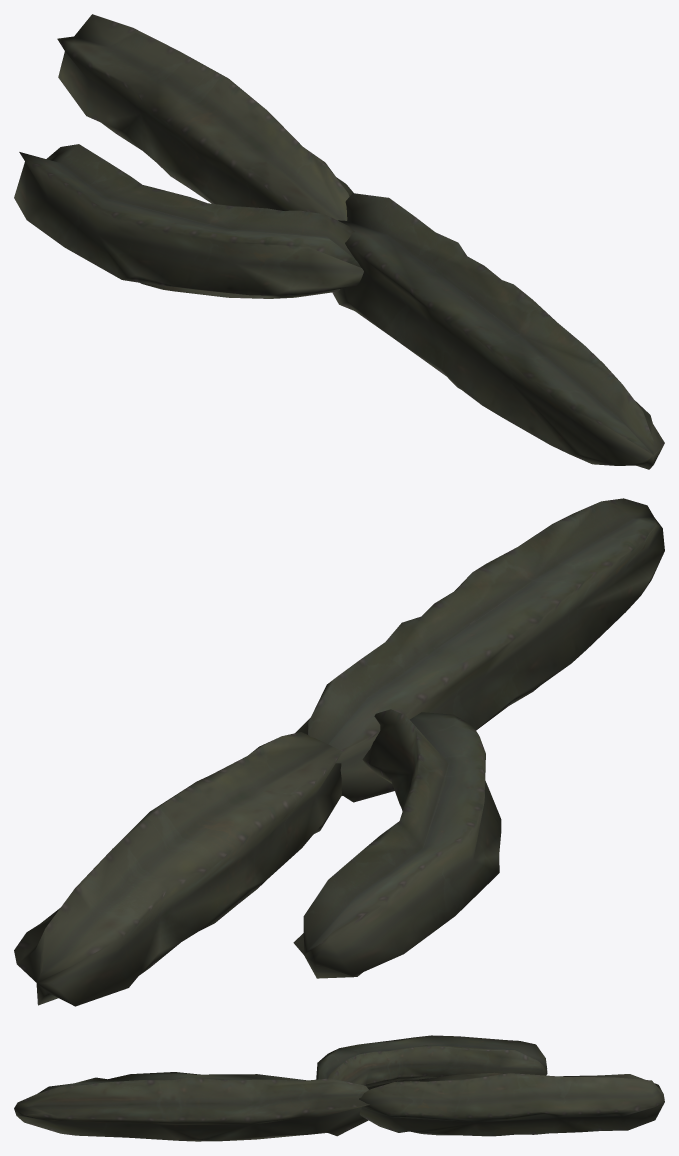
The model's file is DE_Cactus_01_LOD_01.fbx.
The picture shows the model from 3 angles, top to bottom: view 1: azimuth 30°, elevation 25°; view 2: azimuth 150°, elevation 25°; view 3: azimuth 270°, elevation 25°; orthographic projection. The views are drawn at different scales.
Visible parts, largest first — view 1: DE_Cactus_01_LOD_01; view 2: DE_Cactus_01_LOD_01; view 3: DE_Cactus_01_LOD_01.
Part boxes in pixels (<box>): DE_Cactus_01_LOD_01: <box>14,14,664,469</box>; DE_Cactus_01_LOD_01: <box>14,498,664,1006</box>; DE_Cactus_01_LOD_01: <box>14,1035,664,1141</box>.
Size of the model in its own units: 0.9935 by 0.43 by 3.78.
